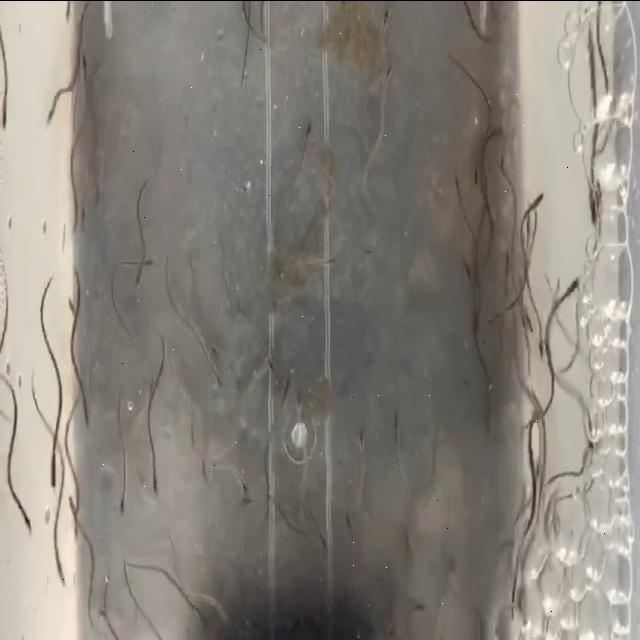active_glass_eel: (613, 95, 637, 136), (372, 65, 395, 107), (92, 594, 112, 634), (574, 404, 594, 441), (530, 322, 548, 363), (50, 550, 68, 590), (584, 190, 602, 230), (44, 450, 59, 497), (41, 93, 57, 135), (516, 200, 532, 242), (76, 34, 90, 81), (521, 310, 537, 351), (198, 454, 215, 492), (388, 409, 402, 455), (183, 409, 197, 454), (523, 404, 542, 437), (67, 489, 82, 530), (301, 116, 314, 162), (71, 500, 85, 542), (356, 428, 371, 466), (145, 462, 159, 502), (456, 256, 476, 284), (277, 378, 292, 414), (212, 363, 226, 401), (469, 152, 483, 190), (564, 272, 580, 304), (17, 500, 33, 530), (238, 470, 253, 502), (258, 342, 274, 372), (527, 186, 547, 210), (0, 87, 9, 139), (138, 248, 156, 274), (118, 486, 130, 524), (66, 294, 80, 326), (316, 251, 338, 271), (90, 176, 102, 212), (379, 4, 391, 40), (78, 192, 88, 234), (80, 404, 92, 438), (501, 247, 513, 280), (205, 340, 221, 364), (130, 265, 144, 291), (60, 0, 74, 22)
